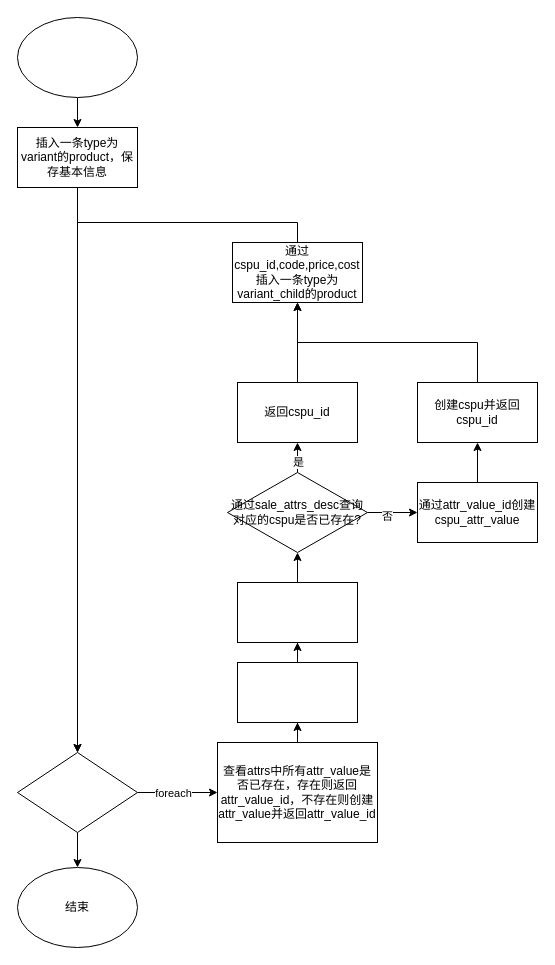
Some shapes in this 555 by 965 pixel diagram are drawn without their labels. The shapes that lost their labels are listed below. From the top down, each one's centre as x and y in pixels, then its label:
(x=77, y=57): 开始
(x=297, y=612): 通过attrs组装sale_attrs_desc:<name1>:<value1>,<name2>:<value2>
(x=297, y=692): 通过attrs中的attr_id查询对应的attr_name，然后将attrs按照attr_name排序
(x=77, y=792): 遍历传入的variant_childs
